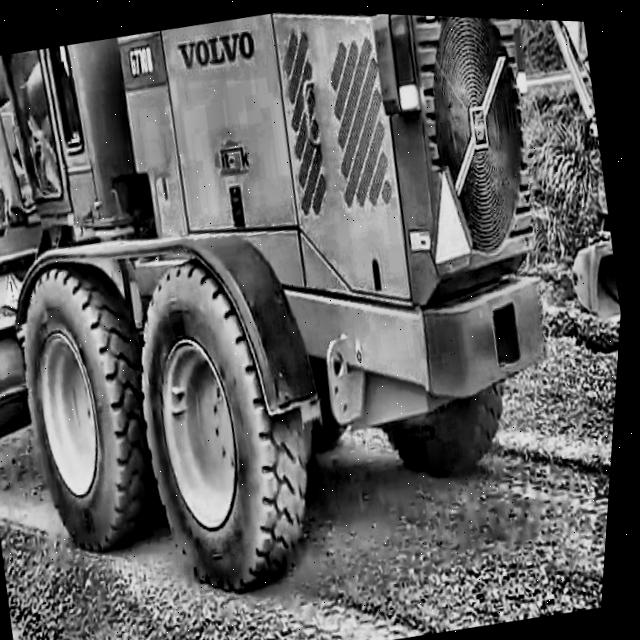buldozerpayloadergrader: (0, 0, 615, 636)
